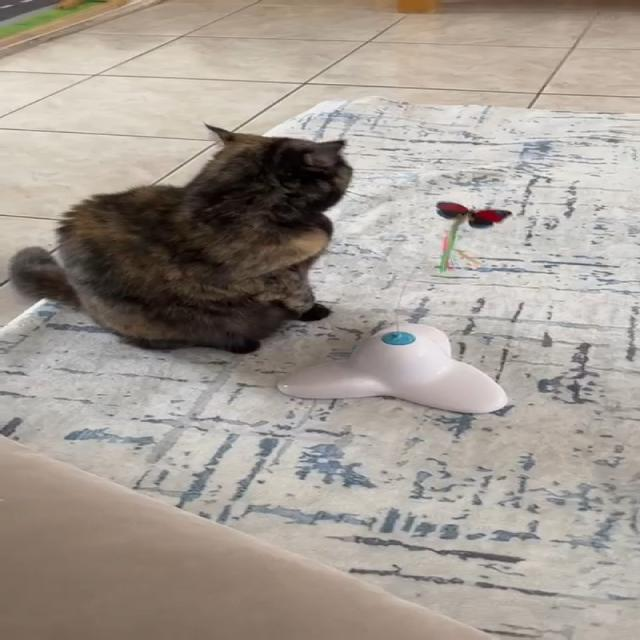authorized: (7, 122, 353, 354)
